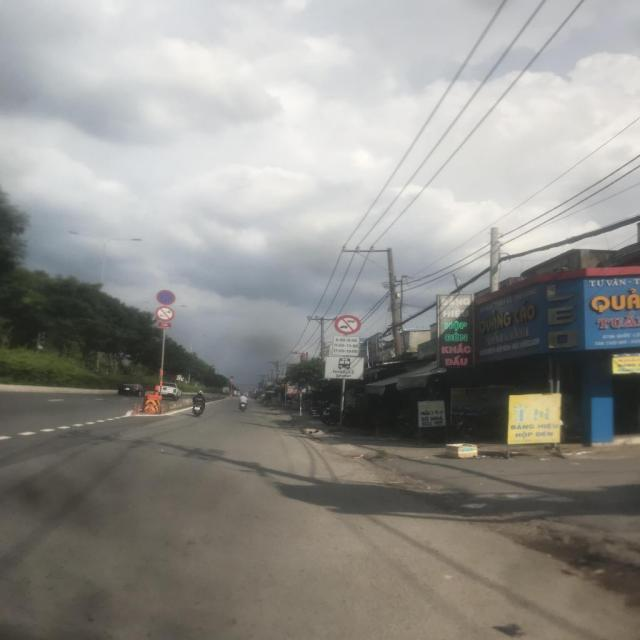107-cam-oto-khach-va-oto-tai: (334, 314, 362, 334)
